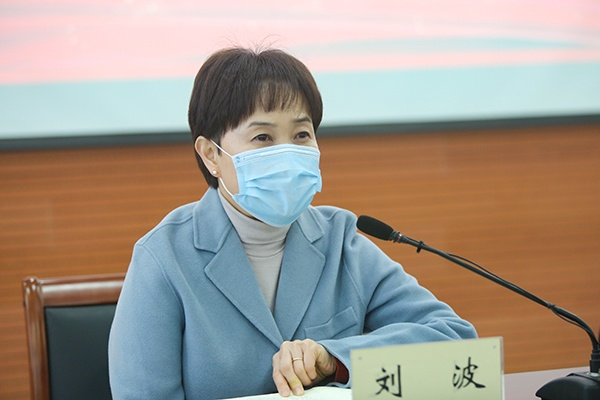correctlyWear: (193, 107, 324, 229)
